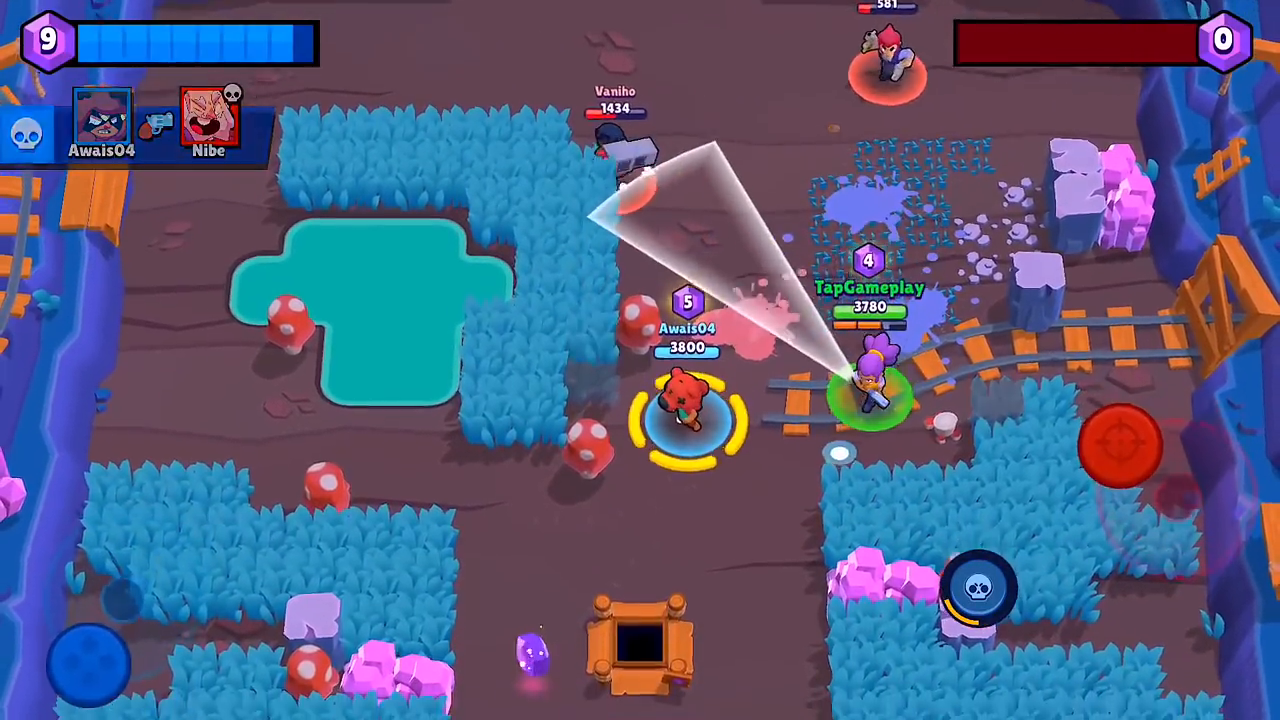move_stick: (54, 622, 130, 710)
red: (854, 3, 940, 110), (582, 94, 651, 217)
